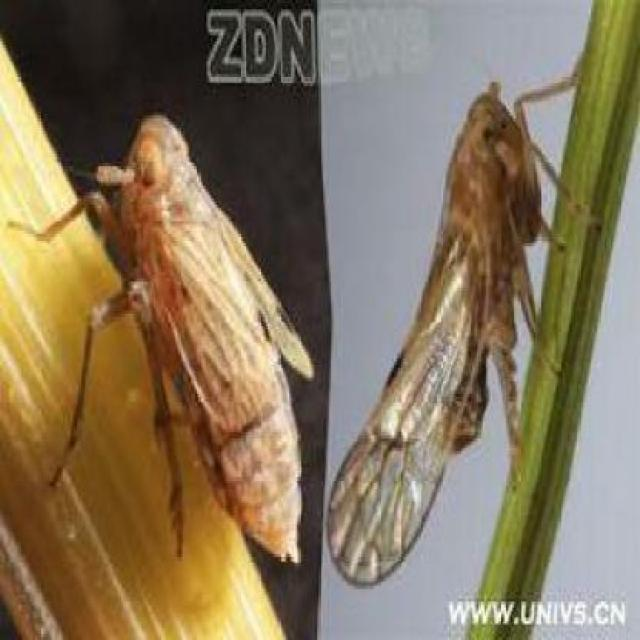brown-planthopper: (328, 82, 560, 586), (88, 105, 307, 572)
